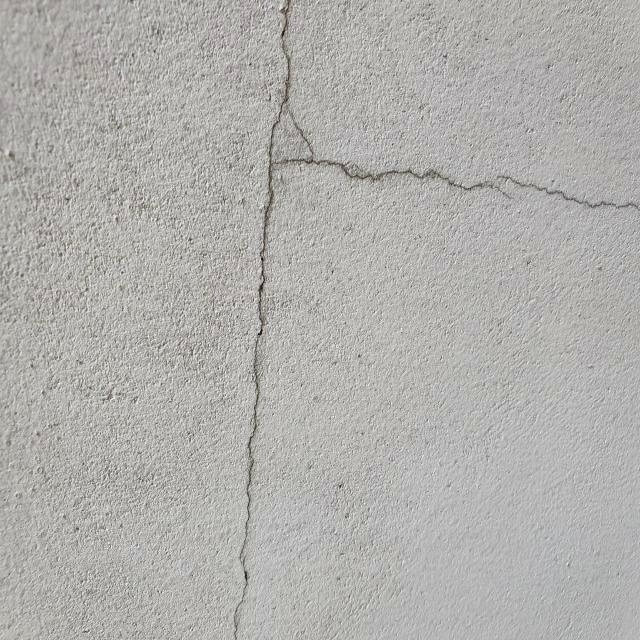SurfaceCrack: (197, 0, 336, 639)
